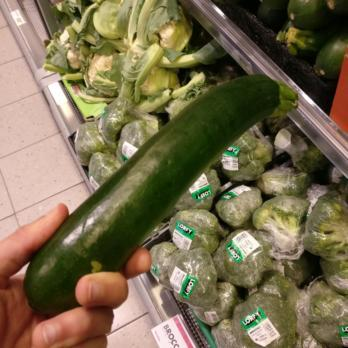Cucumber: (18, 69, 298, 312)
